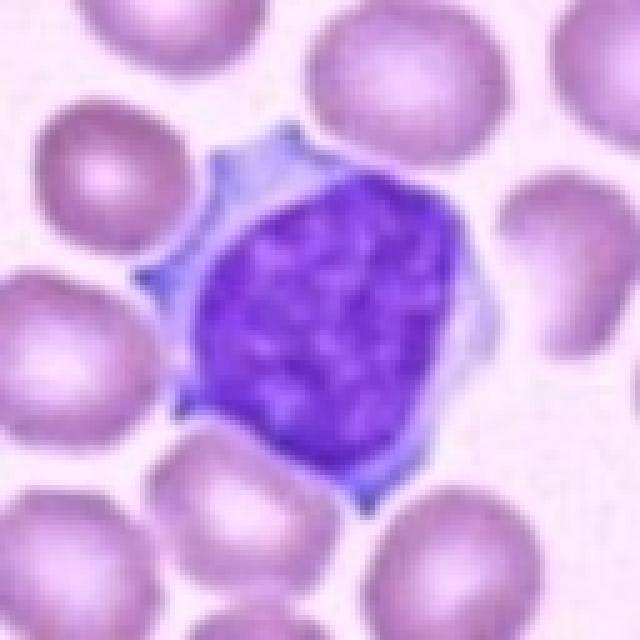lympho: (130, 113, 507, 522)
